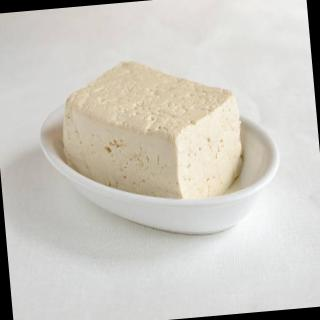Tahu: (51, 44, 254, 217)
